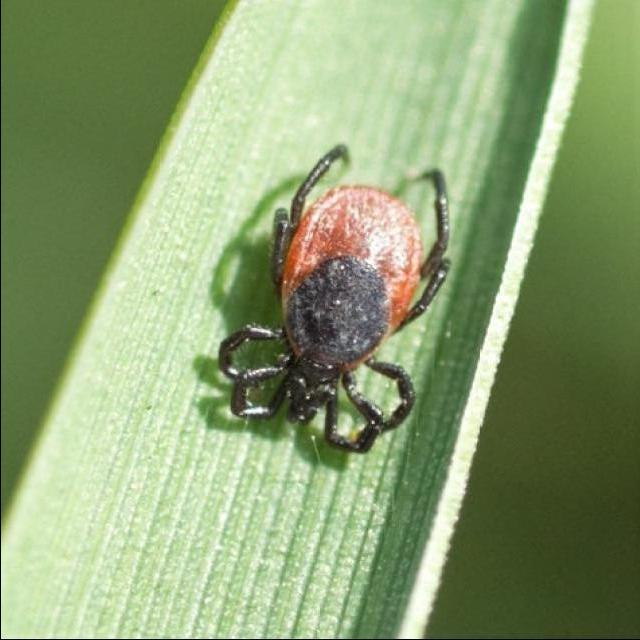Ixodes Ricinus-F: (215, 146, 450, 454)
